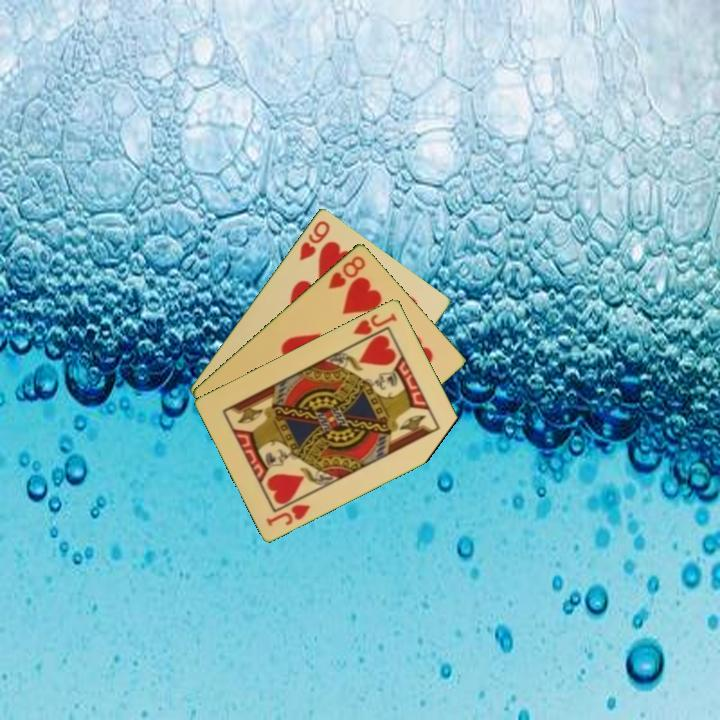8h: (325, 251, 368, 291)
9h: (296, 216, 333, 263)
Jh: (350, 309, 400, 347), (262, 500, 313, 529)
